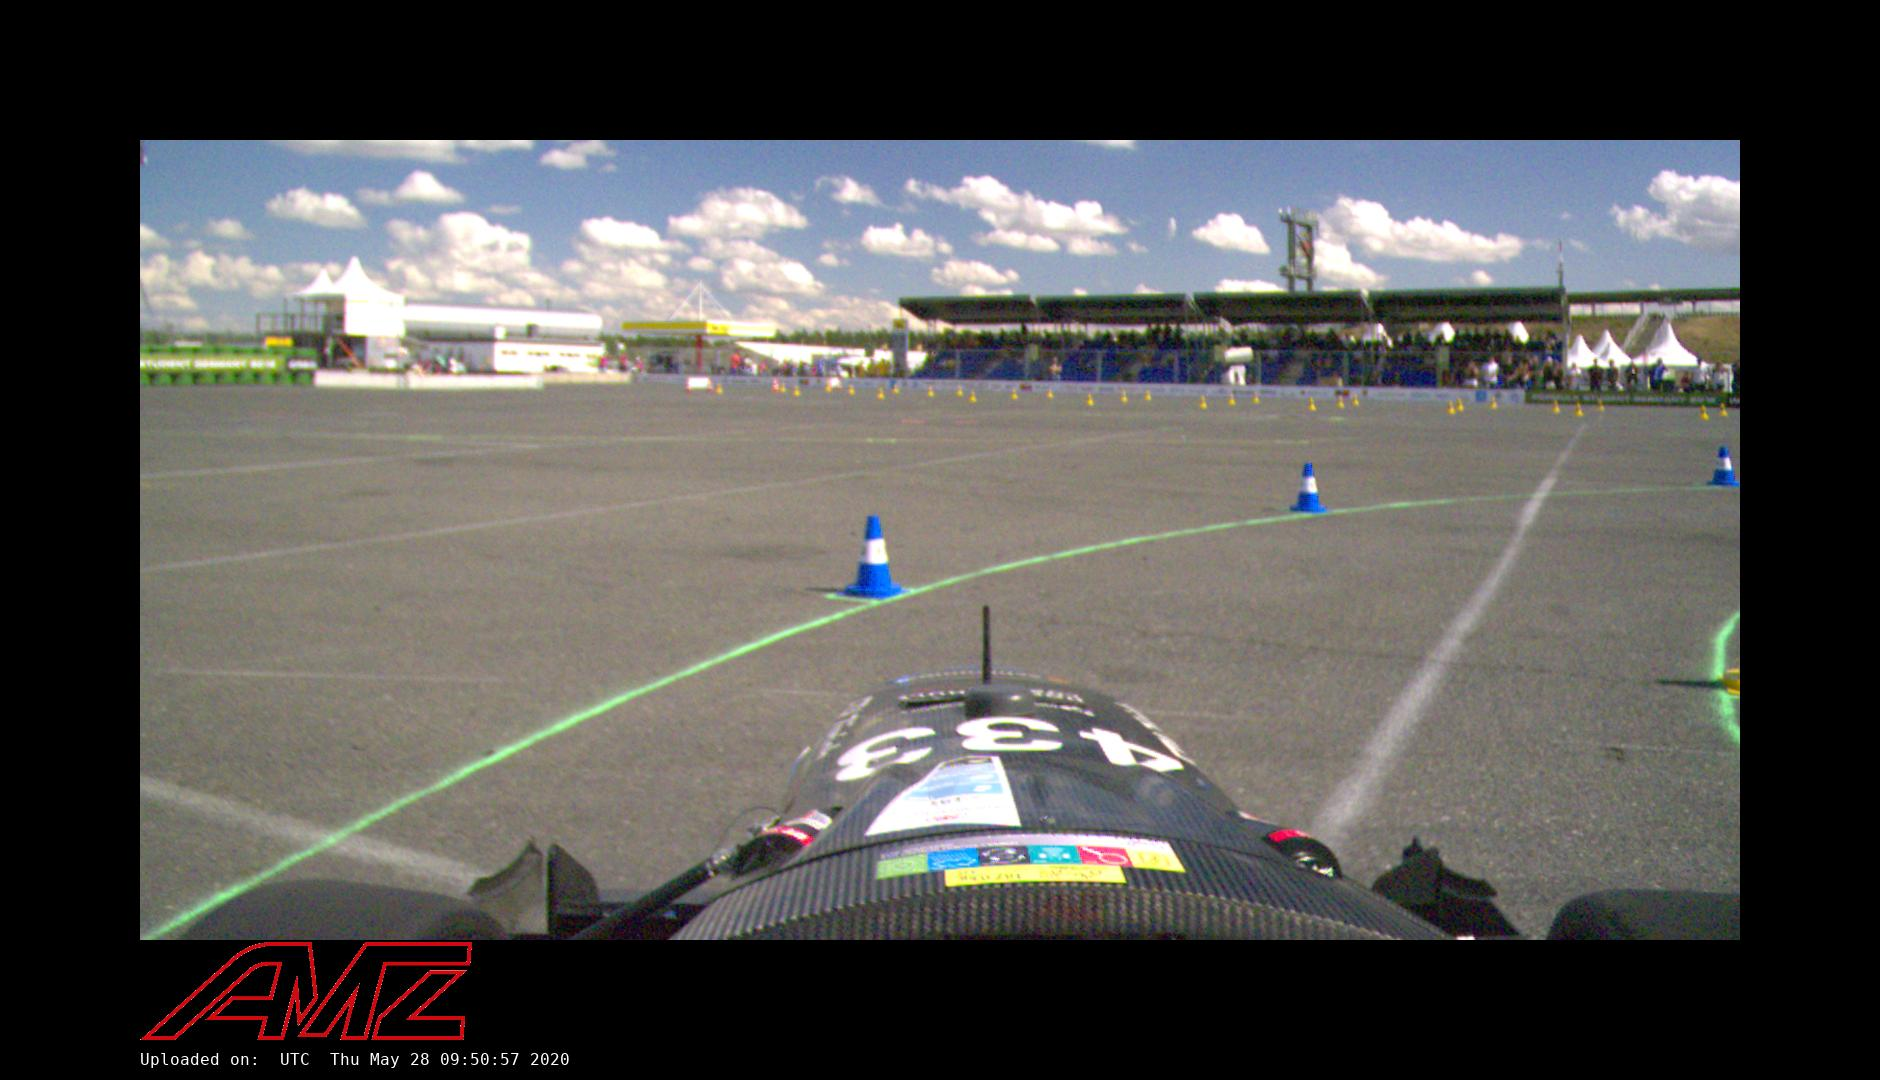blue_cone: (848, 518, 903, 601), (1289, 462, 1326, 513), (1708, 446, 1738, 487)
yellow_cone: (1697, 406, 1710, 420)
